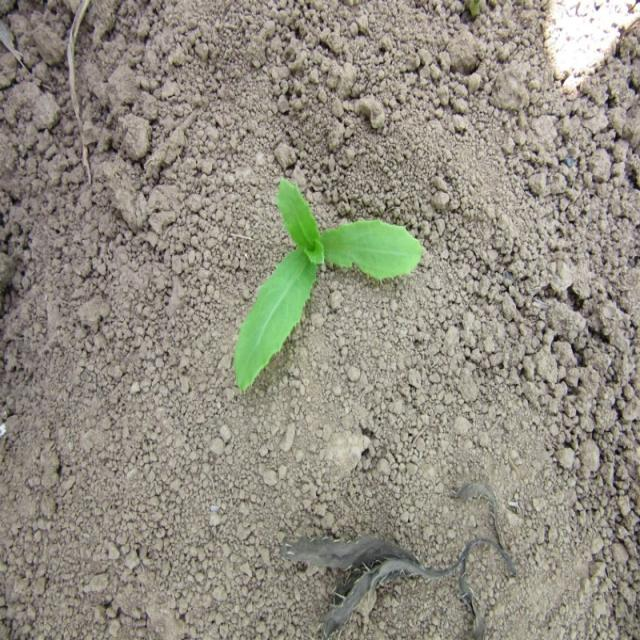field_thistle: (204, 159, 442, 388)
